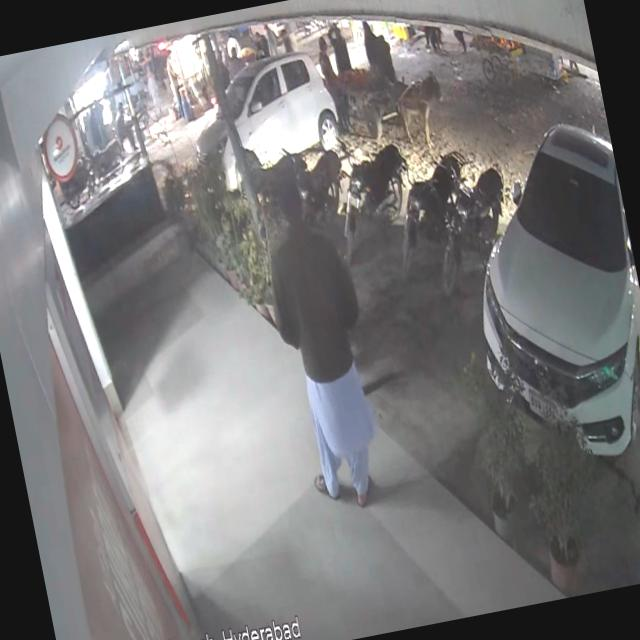Car: (440, 96, 640, 496), (180, 44, 367, 203)
Motorcycle: (327, 120, 428, 270), (418, 150, 507, 296), (385, 159, 446, 284)
